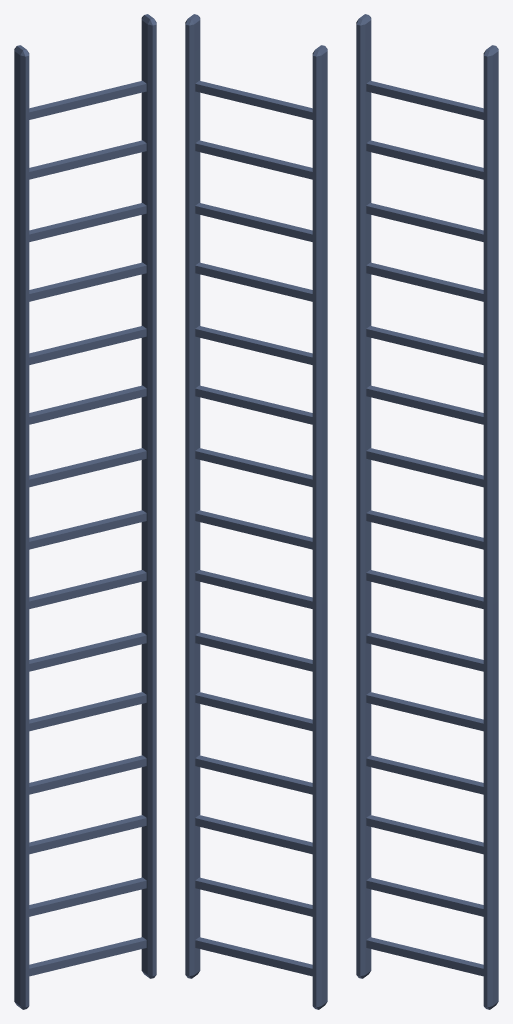
Rendered from Escada_6m.v1.fbx.
3 views of the same model, side by side, from view 1: azimuth 30°, elevation 25°; view 2: azimuth 150°, elevation 25°; view 3: azimuth 330°, elevation 25° (orthographic).
Parts seen in each view (by area): view 1: Escada_6m; view 2: Escada_6m; view 3: Escada_6m.
Boxes of the visible parts, x1,y1,x2,y2 form: Escada_6m: [14, 14, 156, 1009]; Escada_6m: [185, 14, 327, 1009]; Escada_6m: [356, 14, 498, 1009].
Size of the model in its own units: 90.91 by 12.69 by 612.
